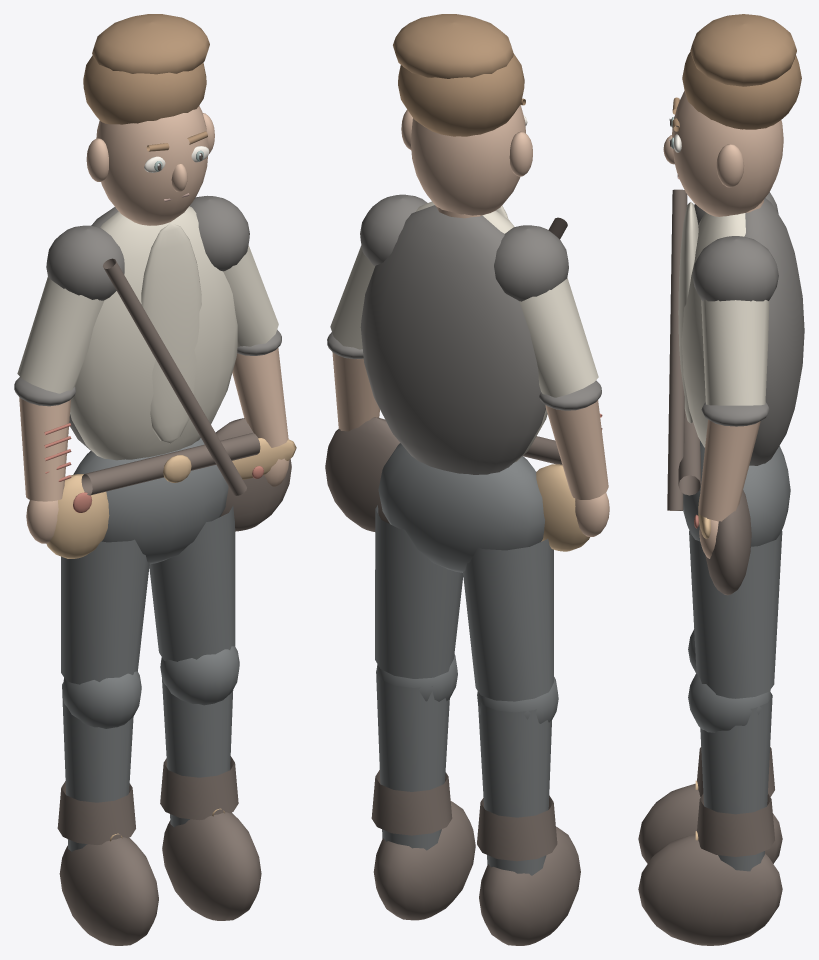
File: Aepex.glb
3 renders of one model, left to right at view 1: azimuth 30°, elevation 25°; view 2: azimuth 150°, elevation 25°; view 3: azimuth 270°, elevation 25°, orthographic. The views are drawn at different scales.
Visible parts, largest first — view 1: Torso shirt, L thigh, R thigh, Head sculpt, Pelvis, Front shirt opening, L boot, R boot, L upper sleeve, Hair crown, High undercut top, L shin (+19 smaller); view 2: Tailored outer layer, Pelvis, L thigh, R thigh, Head sculpt, L shin, R shin, L boot, R boot, Hair crown, High undercut top, L upper sleeve (+16 smaller); view 3: R boot, R thigh, Tailored outer layer, Head sculpt, R upper sleeve, R shin, High undercut top, Hair crown, R shoulder, R forearm, Torso shirt, Crossbody strap (+11 smaller).
Boxes of the visible parts, x1,y1,x2,y2 form: Torso shirt: (70,206,237,460); L thigh: (61,539,149,684); R thigh: (149,505,235,661); Head sculpt: (96,106,208,225); Pelvis: (73,438,228,564); Front shirt opening: (141,223,201,443); L boot: (59,837,158,945); R boot: (162,812,261,920); L upper sleeve: (17,277,104,393); Hair crown: (83,55,206,124); High undercut top: (92,14,209,74); L shin: (62,683,133,851); Tailored outer layer: (360,205,545,474); Pelvis: (378,443,544,572); L thigh: (463,538,553,701); R thigh: (375,505,463,678); Head sculpt: (410,105,525,215); L shin: (477,697,551,875); R shin: (376,670,449,850); L boot: (479,826,580,945); R boot: (373,801,475,920); Hair crown: (398,53,524,136); High undercut top: (393,14,513,78); L upper sleeve: (519,278,598,397); R boot: (638,834,782,945); R thigh: (689,529,782,698); Tailored outer layer: (744,198,804,465); Head sculpt: (672,91,783,216); R upper sleeve: (701,300,769,405); R shin: (700,692,772,871); High undercut top: (690,14,796,86); Hair crown: (682,52,801,129); R shoulder: (692,236,778,301); R forearm: (698,419,760,521); Torso shirt: (681,212,745,447); Crossbody strap: (667,189,687,510).
Size of the model in its own units: 0.584 by 1.85 by 0.311.
